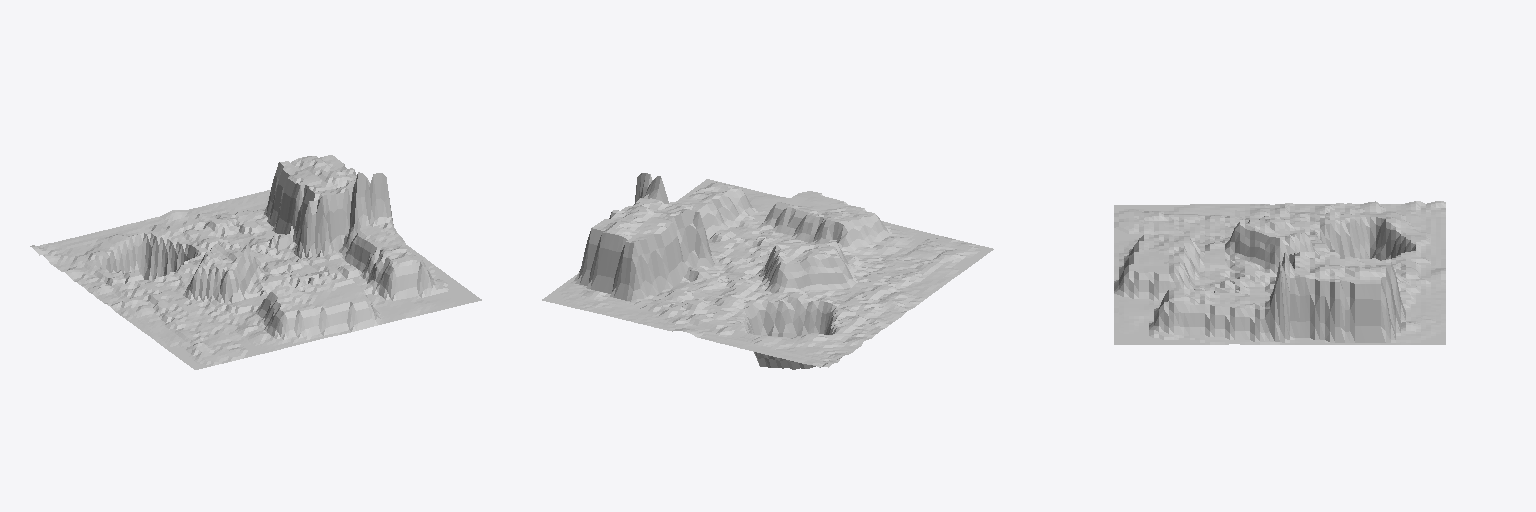
Rendered from pod.obj.
The picture shows the model from 3 angles: view 1: azimuth 30°, elevation 25°; view 2: azimuth 150°, elevation 25°; view 3: azimuth 270°, elevation 25°; orthographic projection.
Visible parts, largest first — view 1: Plane.001; view 2: Plane.001; view 3: Plane.001.
Boxes of the visible parts, x1=… form: Plane.001: x1=30, y1=155, x2=481, y2=369; Plane.001: x1=542, y1=173, x2=993, y2=369; Plane.001: x1=1114, y1=201, x2=1445, y2=344.
Size of the model in its own units: 100 by 37.55 by 100.